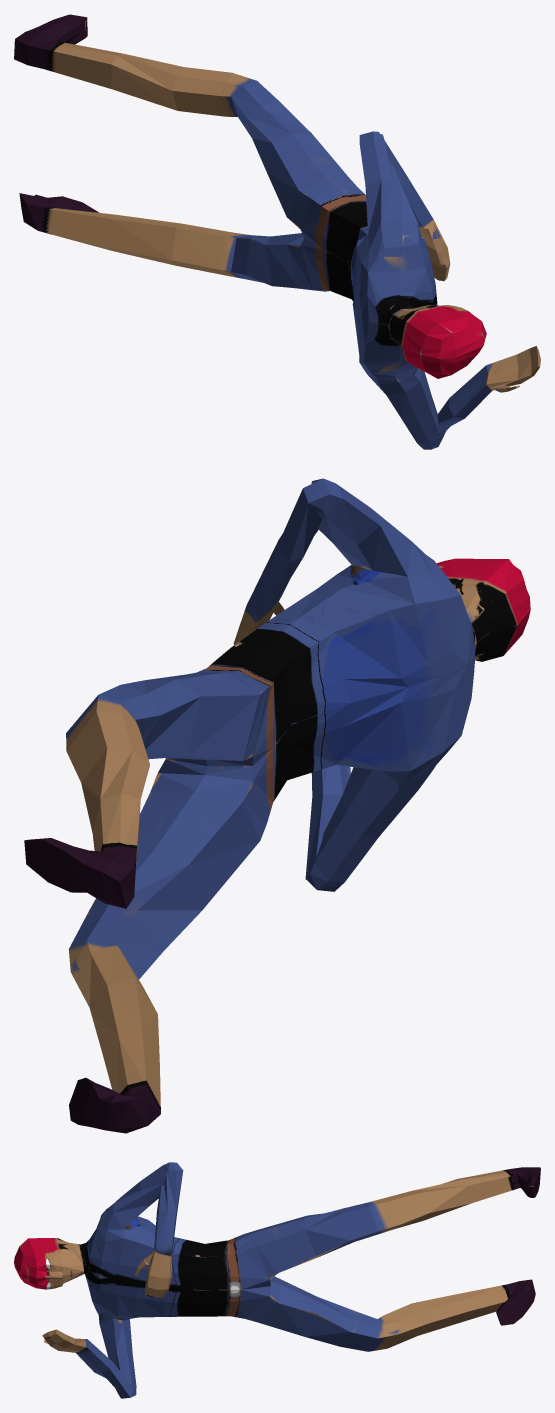
Rendered from mirrorman_000021.obj.
The picture shows the model from 3 angles, top to bottom: view 1: azimuth 30°, elevation 25°; view 2: azimuth 150°, elevation 25°; view 3: azimuth 270°, elevation 25°; orthographic projection. The views are drawn at different scales.
Visible parts, largest first — view 1: mirrorman_Cube.001_Material.001; view 2: mirrorman_Cube.001_Material.001; view 3: mirrorman_Cube.001_Material.001.
Boxes of the visible parts, <box> form: mirrorman_Cube.001_Material.001: <box>14,14,540,449</box>; mirrorman_Cube.001_Material.001: <box>24,478,530,1133</box>; mirrorman_Cube.001_Material.001: <box>14,1162,540,1398</box>.
Bounding box in the file's own units: 0.5989 × 0.8403 × 1.77.
1 material, 1 textured.
